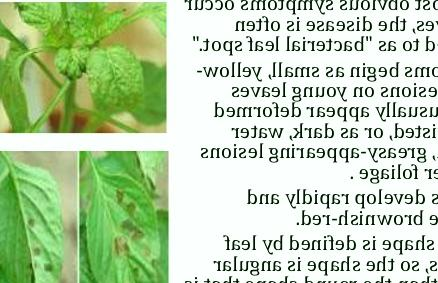Tomato leaf bacterial spot: (86, 155, 158, 283), (0, 153, 66, 283), (82, 48, 145, 123)
